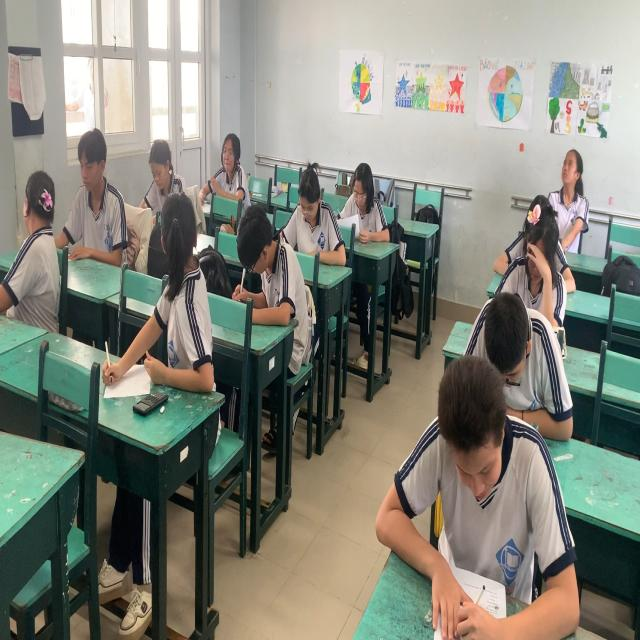cheating: (153, 186, 212, 399), (13, 155, 68, 333)
not_cheating: (425, 370, 544, 540), (473, 287, 583, 408), (78, 125, 144, 288), (240, 200, 302, 354), (510, 210, 560, 306), (286, 148, 326, 244), (342, 151, 380, 243), (546, 139, 582, 236), (154, 115, 190, 206), (207, 116, 245, 190)
